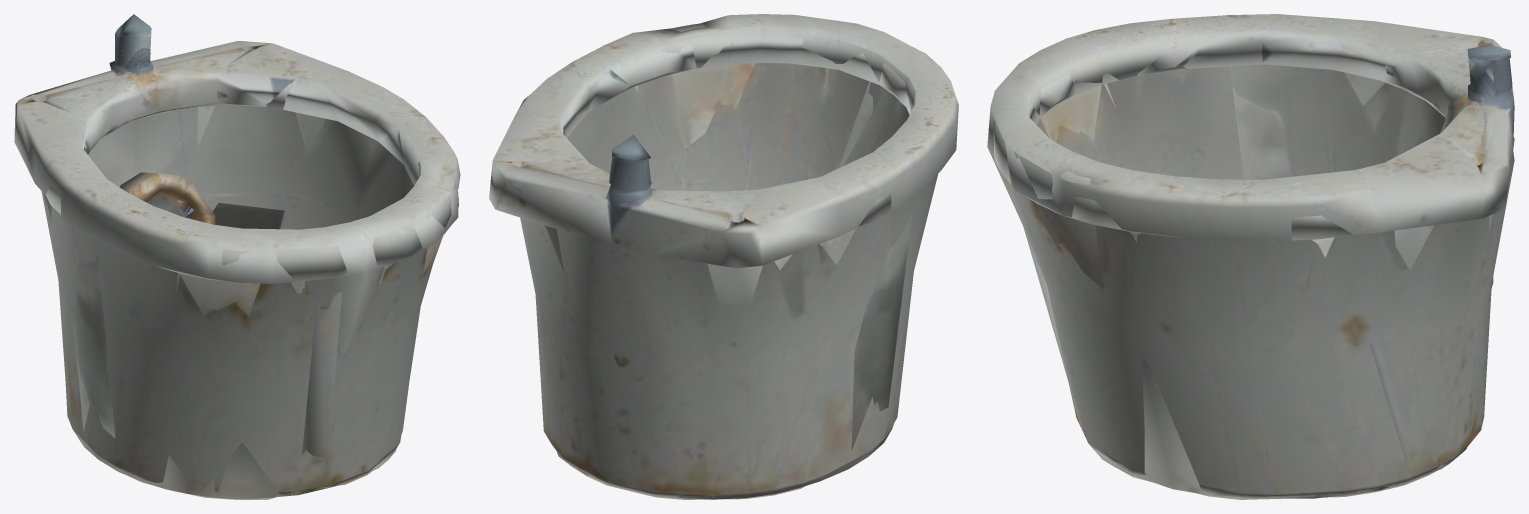
Rendered from cell_toilet.glb.
3 renders of one model, left to right at view 1: azimuth 30°, elevation 25°; view 2: azimuth 150°, elevation 25°; view 3: azimuth 270°, elevation 25°, orthographic. The views are drawn at different scales.
Bounding box in the file's own units: 0.4465 × 0.4192 × 0.5285.
Materials: 1 (1 with a texture image).
